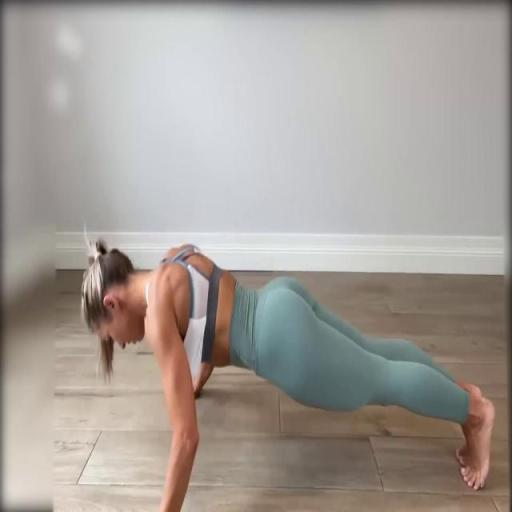Normal_Dips: (13, 223, 512, 512)
